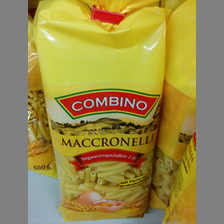pasta: (33, 1, 167, 221)
